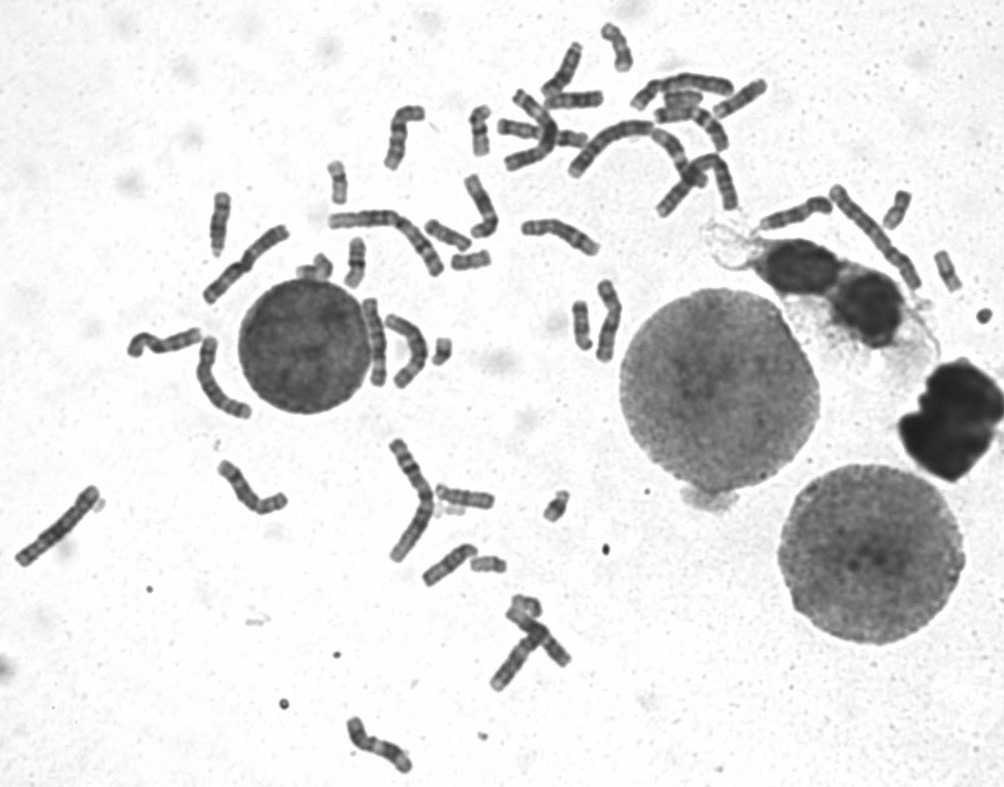chromosomes: (827, 172, 927, 294), (195, 218, 297, 312), (323, 205, 449, 281), (11, 477, 107, 574), (377, 428, 439, 569), (651, 149, 752, 226), (209, 451, 297, 521), (499, 81, 561, 179), (566, 117, 656, 184), (193, 332, 257, 425), (504, 598, 580, 671), (629, 69, 740, 115), (342, 711, 417, 778), (484, 624, 550, 696), (749, 187, 842, 235), (650, 121, 710, 195), (518, 215, 605, 265), (382, 309, 431, 395), (701, 74, 776, 130), (648, 108, 738, 152), (355, 293, 392, 396), (379, 101, 431, 173), (123, 319, 208, 363), (490, 117, 595, 151), (420, 539, 483, 593), (459, 168, 505, 241), (590, 276, 627, 366), (537, 33, 588, 98), (203, 186, 245, 263), (598, 14, 642, 80), (431, 477, 500, 515), (542, 85, 611, 121), (564, 286, 597, 359), (931, 241, 976, 293), (421, 214, 477, 254), (465, 99, 499, 164), (293, 250, 341, 292), (339, 234, 372, 292), (445, 241, 501, 275), (320, 155, 355, 208), (881, 183, 918, 233), (540, 481, 581, 525), (659, 82, 713, 112), (509, 586, 550, 621), (428, 331, 460, 375), (467, 551, 514, 578)
